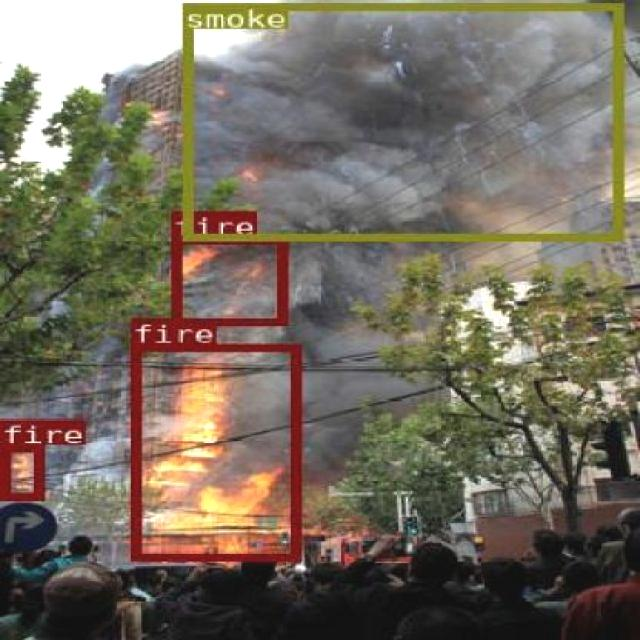fire: (130, 343, 298, 559), (169, 236, 285, 324), (0, 443, 40, 499)
smoke: (182, 2, 622, 238)
